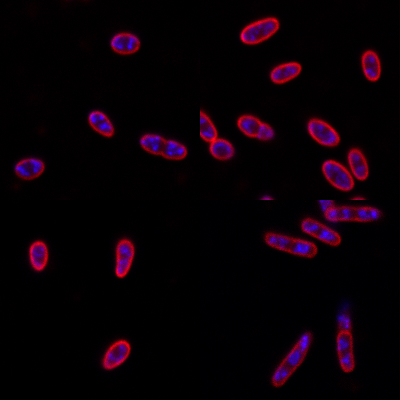Control: (264, 231, 317, 259), (300, 217, 343, 250)
MP265: (138, 132, 188, 160), (238, 17, 279, 47), (320, 158, 356, 192), (306, 116, 342, 147), (12, 155, 46, 180), (87, 108, 115, 137), (269, 63, 302, 87), (109, 32, 141, 55), (348, 147, 370, 180), (361, 49, 382, 82)
Mecillinam: (101, 338, 131, 371), (112, 239, 136, 278), (29, 239, 49, 272)
Oblique: (270, 330, 312, 389), (334, 301, 358, 374), (322, 203, 384, 224), (236, 114, 275, 142)
